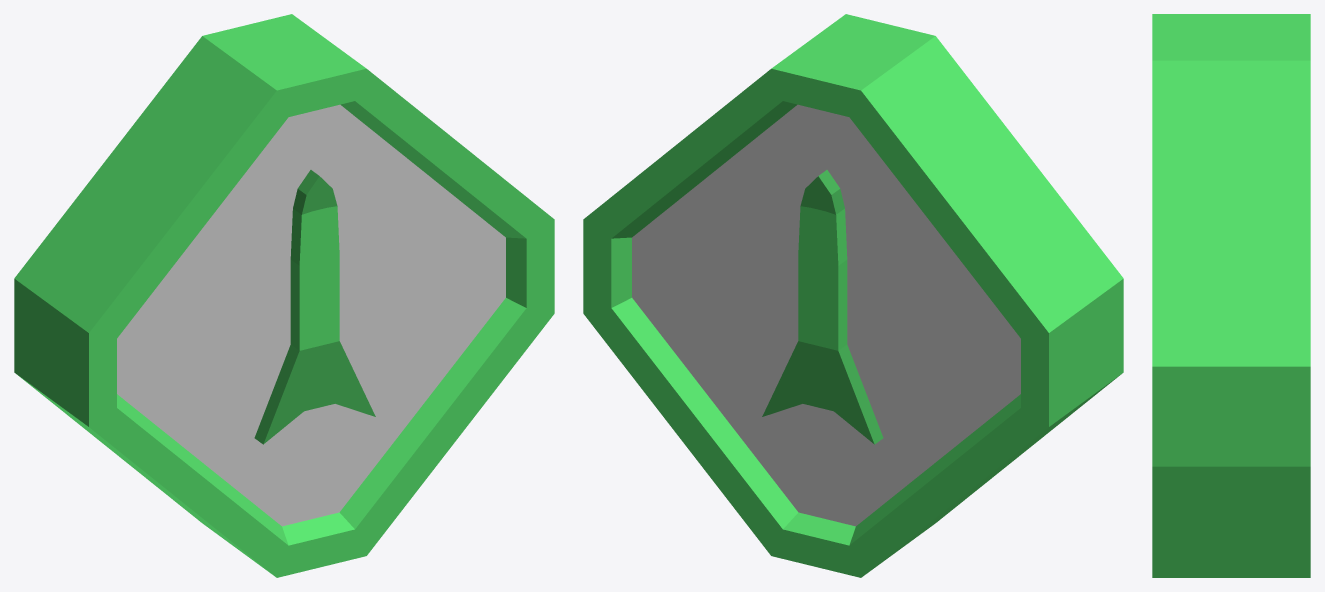
File: bonus_boost_weapon.glb
3 renders of one model, left to right at view 1: azimuth 30°, elevation 25°; view 2: azimuth 150°, elevation 25°; view 3: azimuth 270°, elevation 25°, orthographic. The views are drawn at different scales.
Visible parts, largest first — view 1: Cube.005; view 2: Cube.005; view 3: Cube.005.
Part boxes in pixels (x1,y1,x2,y2): Cube.005: [14, 14, 554, 577]; Cube.005: [583, 14, 1123, 577]; Cube.005: [1152, 14, 1310, 577].
Bounding box in the file's own units: 2.37 × 2.37 × 0.6587.
